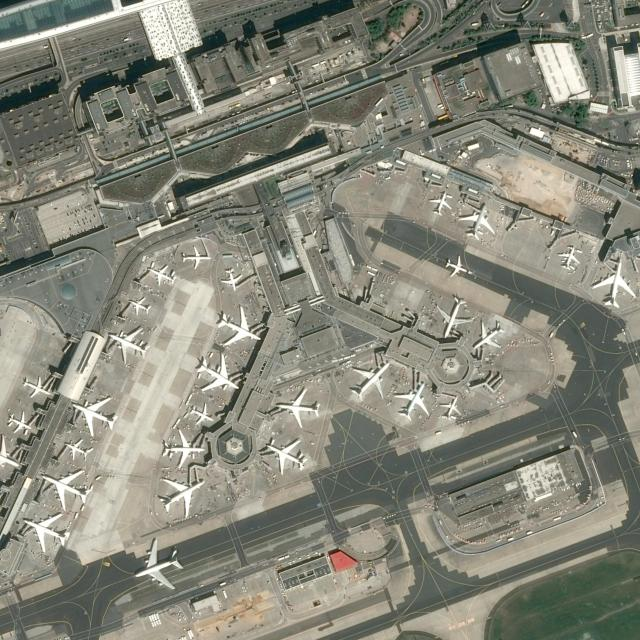1: (0, 431, 19, 472)
aircraft: (132, 536, 186, 592), (590, 256, 636, 310), (39, 466, 93, 512), (155, 474, 206, 518), (70, 393, 119, 437), (274, 386, 322, 429), (22, 511, 71, 553), (348, 356, 392, 402), (214, 304, 262, 346), (160, 426, 206, 469), (194, 352, 242, 392), (262, 437, 310, 476), (434, 292, 474, 338), (106, 325, 151, 365), (457, 199, 495, 241), (394, 380, 431, 422), (468, 318, 507, 351), (178, 243, 212, 270), (19, 374, 52, 400), (556, 242, 582, 272), (427, 189, 454, 217), (146, 262, 177, 286), (63, 436, 94, 460), (442, 253, 470, 278), (438, 394, 462, 422), (6, 410, 33, 434), (188, 401, 214, 425), (219, 266, 243, 291), (126, 295, 152, 315)
